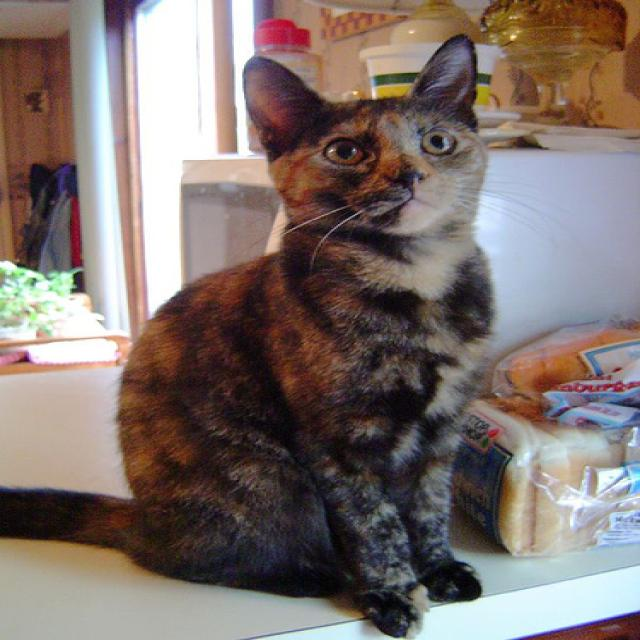cat: (1, 33, 501, 638)
